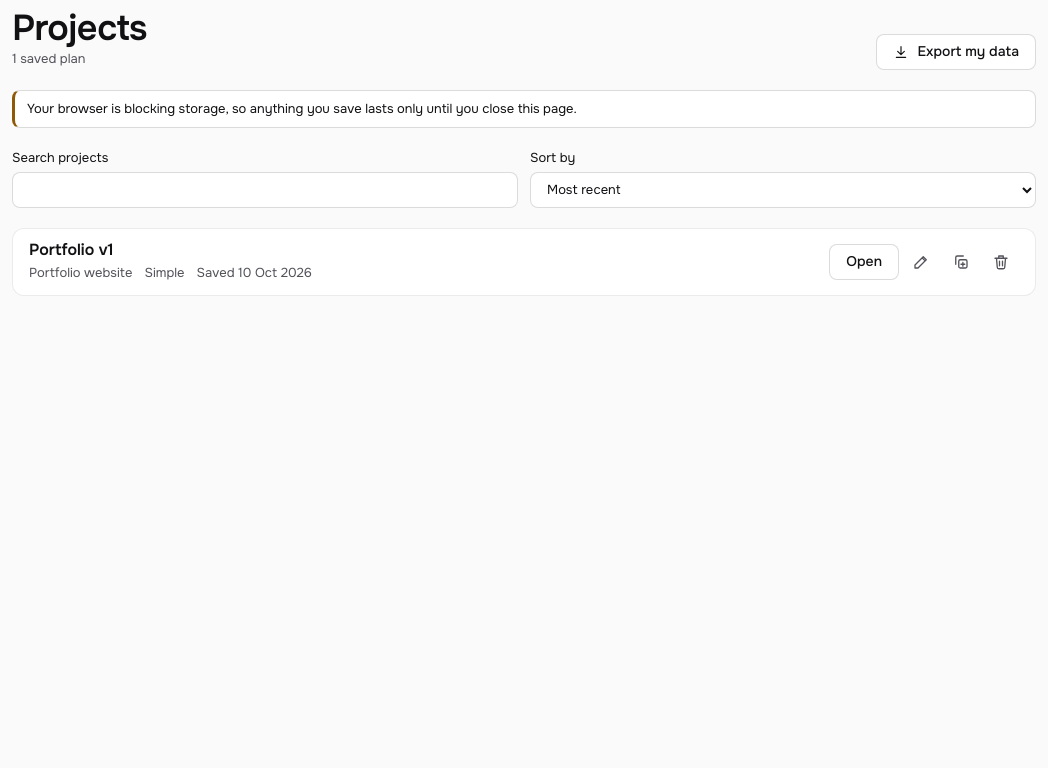
it: Projects page › duplicates a plan
The image size is (1048, 768).
Check: the link "Portfolio v1" is shown, box left=29, top=239, right=114, bottom=260
Click the button named "Duplicate Portfolio v1" at x=961, y=262, box left=943, top=244, right=979, bottom=280
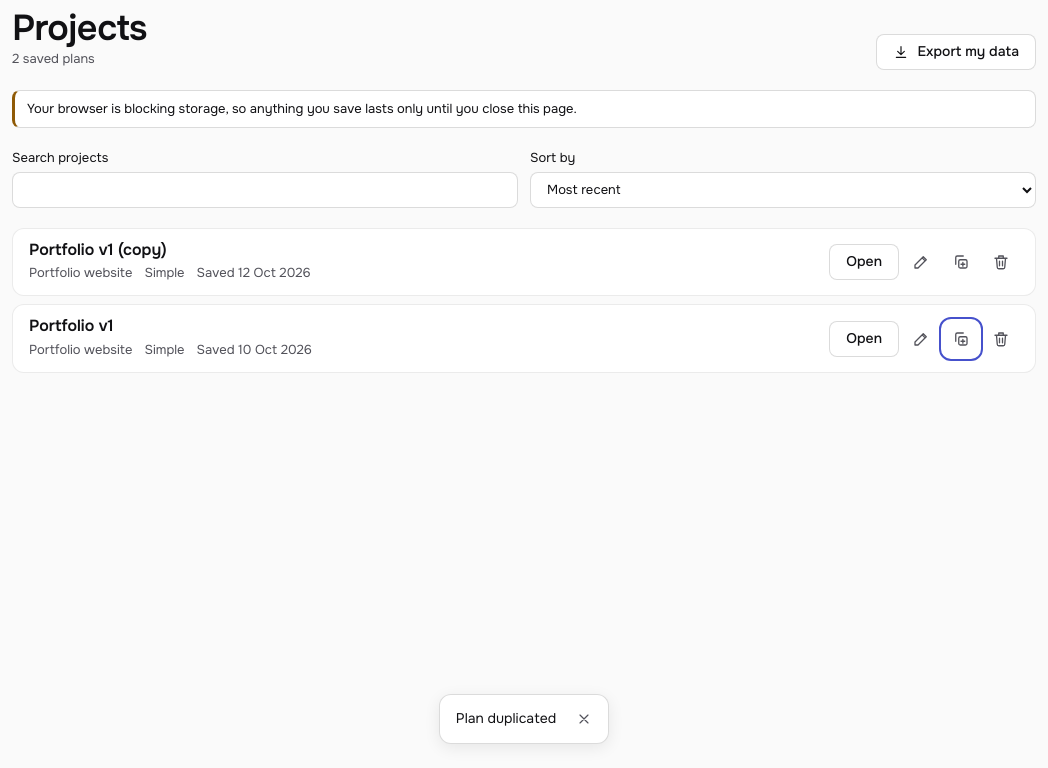
Check: the link "Portfolio v1 (copy)" is shown, box left=29, top=239, right=167, bottom=260
Check: the text "Plan duplicated" is shown, box left=456, top=708, right=556, bottom=730
